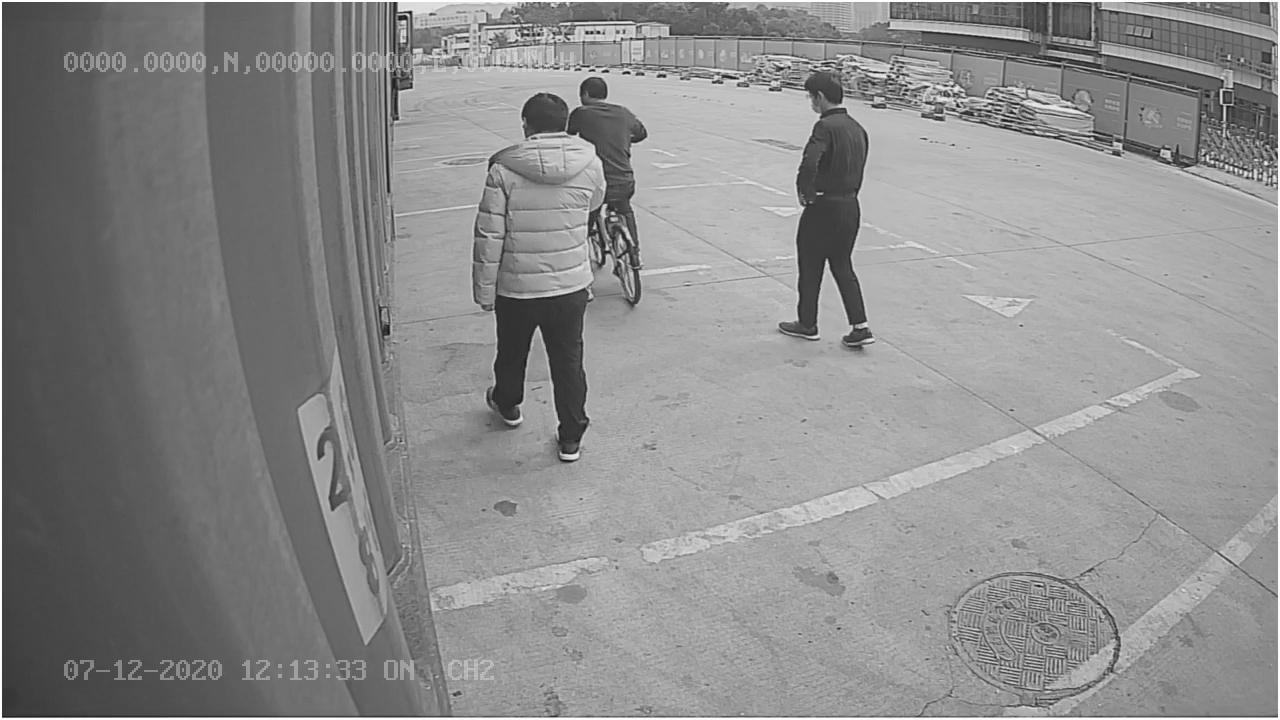person: (772, 63, 874, 353)
